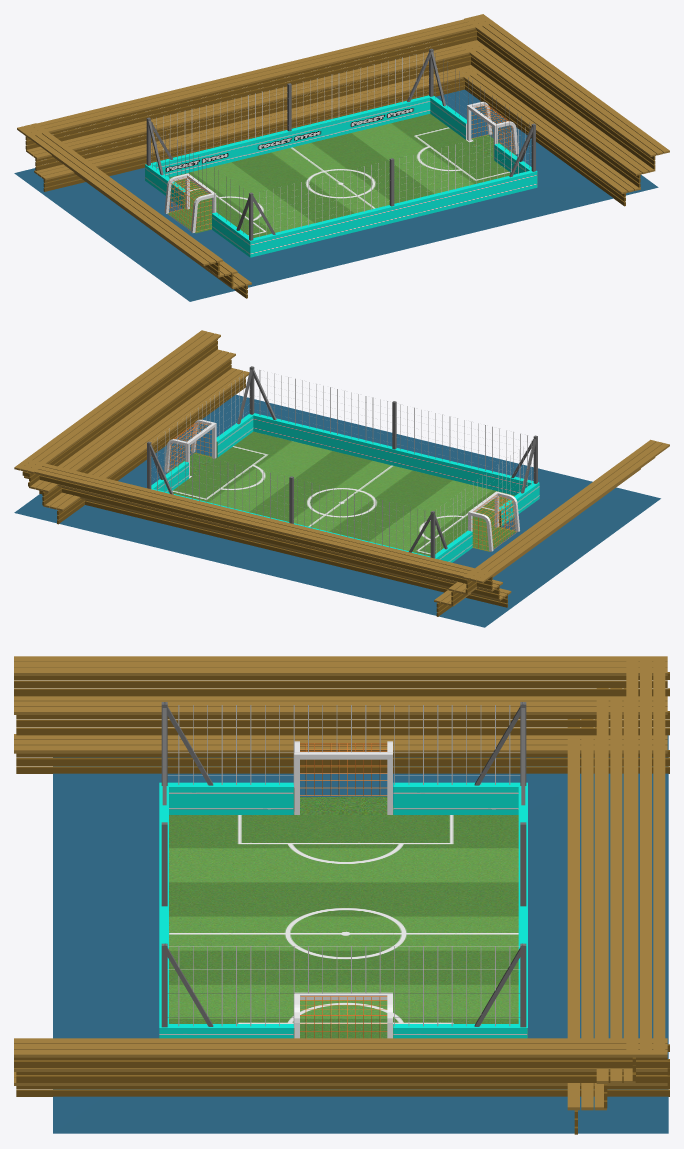
The model's file is Pitch Model - Fenced.fbx.
3 views of the same model, one above another, from view 1: azimuth 30°, elevation 25°; view 2: azimuth 150°, elevation 25°; view 3: azimuth 270°, elevation 25° (orthographic). The views are drawn at different scales.
Parts seen in each view (by area): view 1: pitch, seating, fencing, goal 2, goal 1; view 2: pitch, seating, fencing, goal 2, goal 1; view 3: pitch, seating, fencing, goal 2, goal 1.
Boxes of the visible parts, x1,y1,x2,y2 form: pitch: [14, 89, 658, 301]; seating: [17, 14, 669, 298]; fencing: [146, 48, 535, 240]; goal 2: [164, 173, 216, 233]; goal 1: [467, 101, 518, 159]; pitch: [14, 394, 660, 627]; seating: [14, 330, 669, 616]; fencing: [147, 366, 537, 558]; goal 2: [468, 491, 519, 551]; goal 1: [164, 419, 216, 477]; pitch: [53, 735, 668, 1133]; seating: [14, 656, 669, 1134]; fencing: [161, 702, 526, 1027]; goal 2: [294, 741, 392, 814]; goal 1: [294, 992, 392, 1038].
Size of the model in its own units: 3295 by 427 by 2277.
